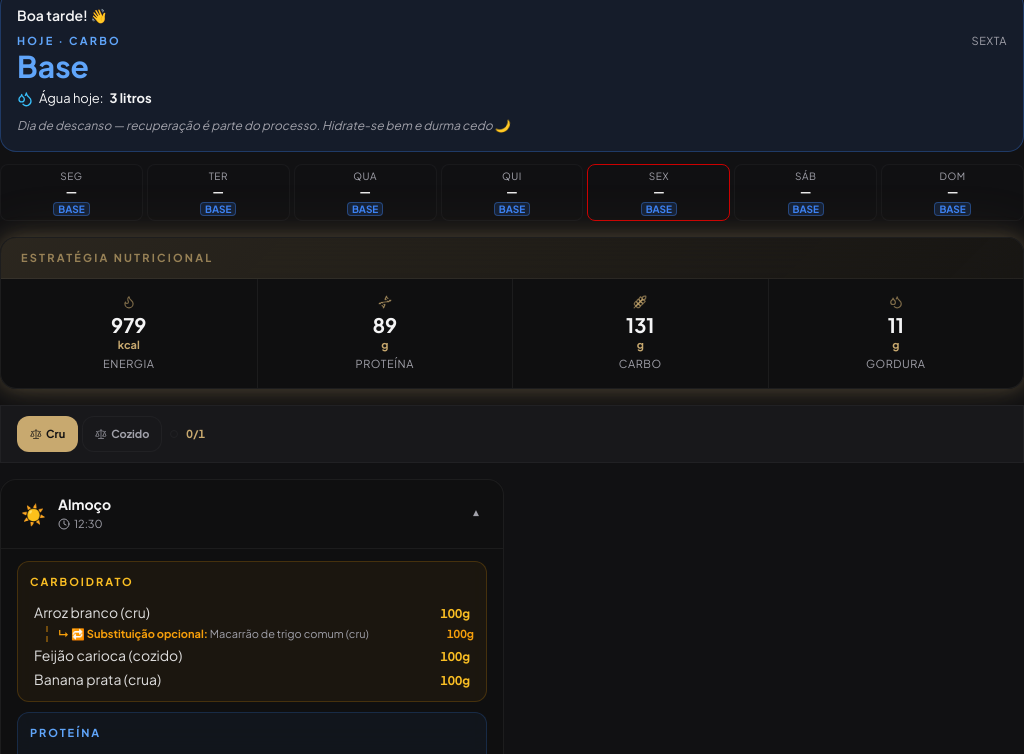
Test: StructuredMealsViewer — Cru × Cozido › voltar para Cru restaura nomes e pesos originais
Click the button "Cozido" at (122,434), box [82,416,162,452]
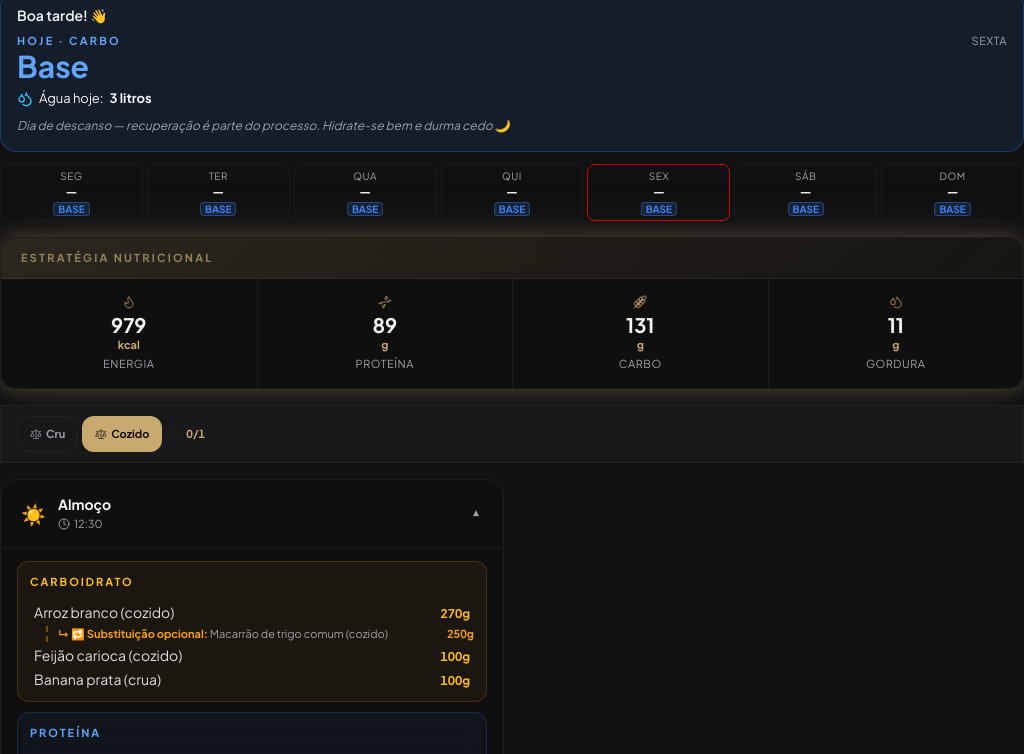
Click the button "Cru" at (48,434), box [17,416,78,452]
(page scrolled)
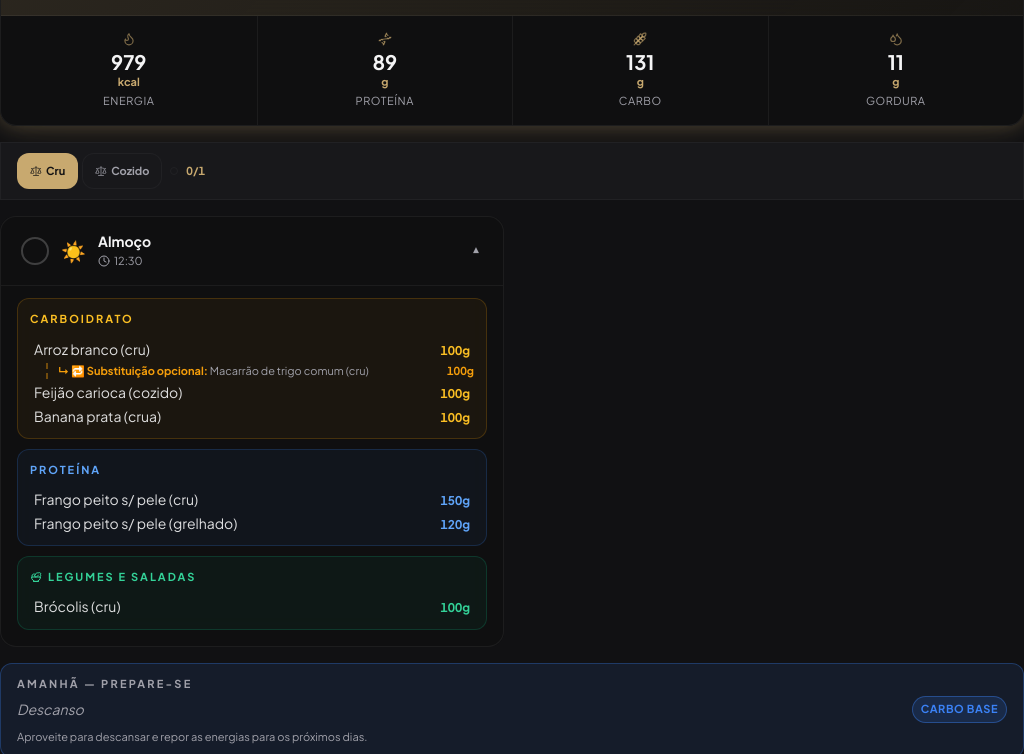
Expected: the text "Frango peito s/ pele (cru) 150g" is shown, [30,490,474,510]
